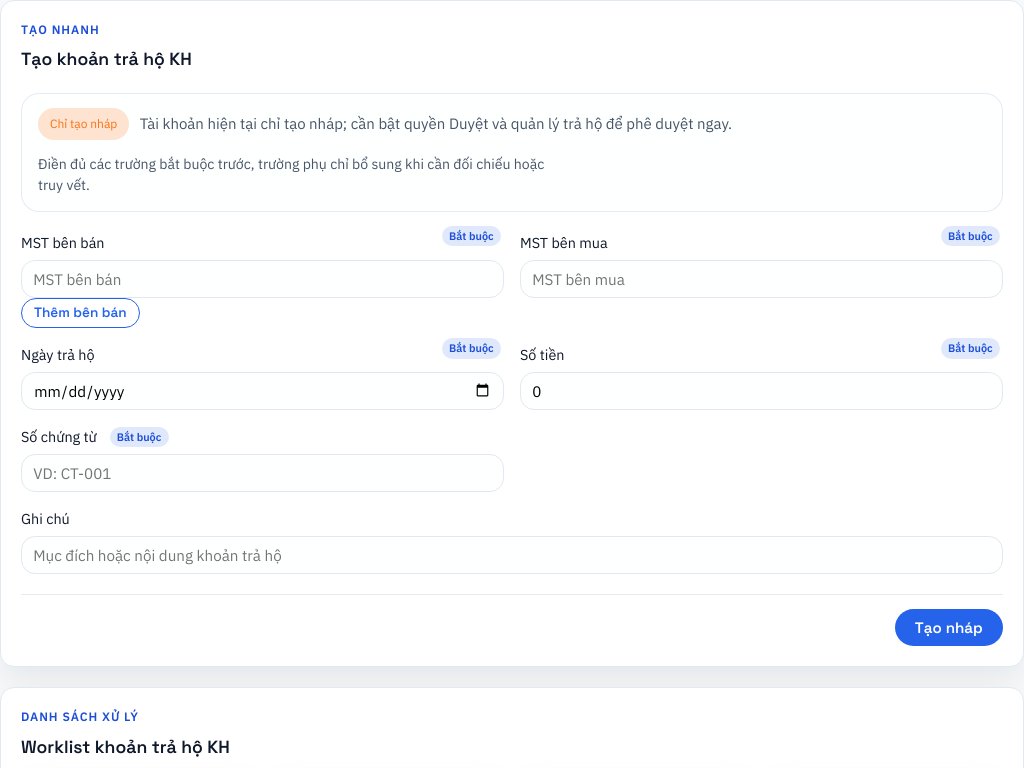
Test: ManualAdvancesSection › allows quick-adding a seller from the manual advances form
The width and height of the screenshot is (1024, 768).
Click the button "Thêm bên bán" at [80, 313], box [21, 298, 140, 328]
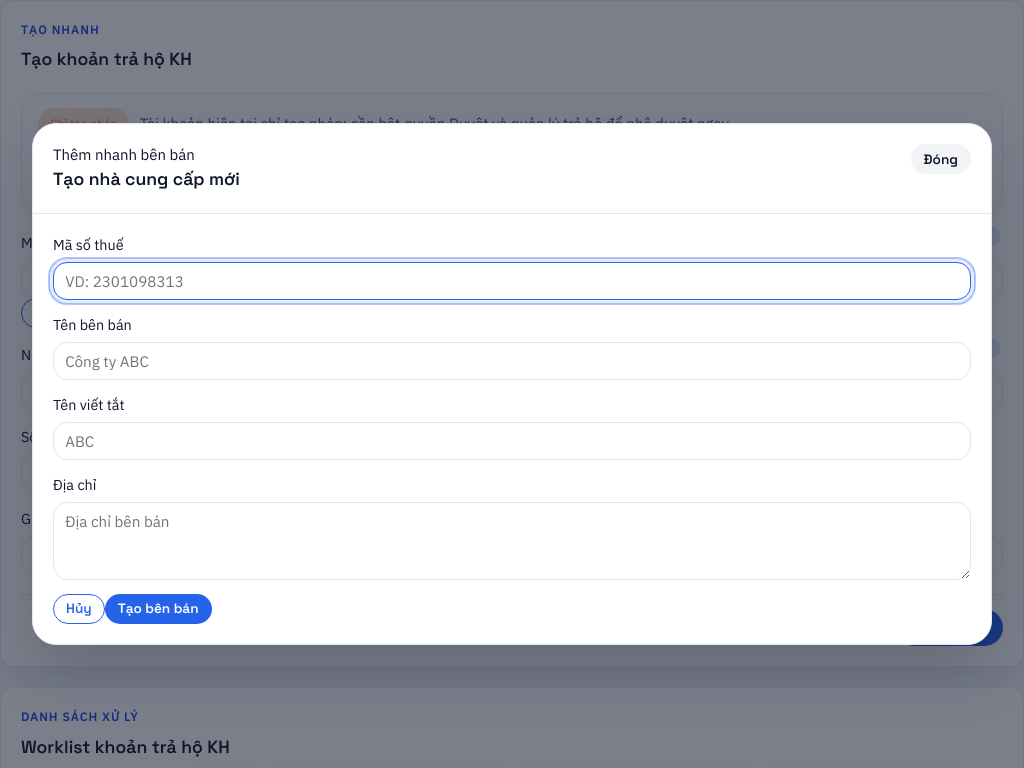
Type "0312345678" into the field labelled "Mã số thuế" at [512, 281], box [53, 262, 971, 300]
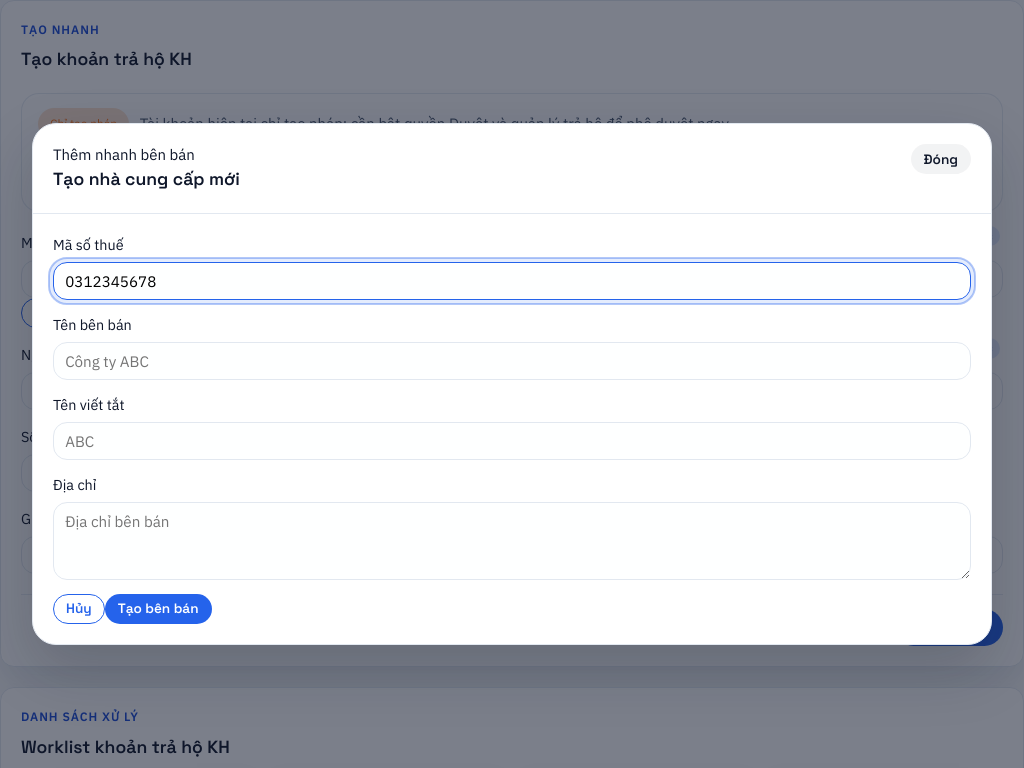
Type "Nhà cung cấp mới" into the field labelled "Tên bên bán" at [512, 361], box [53, 342, 971, 380]
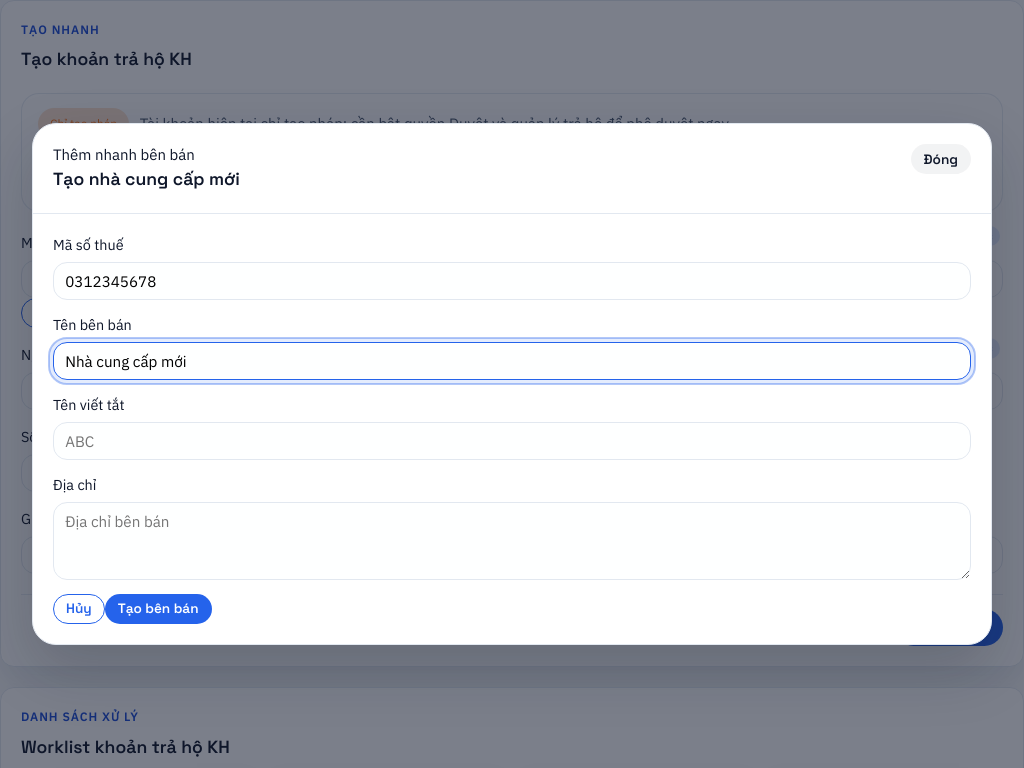
Type "NCC" into the field labelled "Tên viết tắt" at [512, 441], box [53, 422, 971, 460]
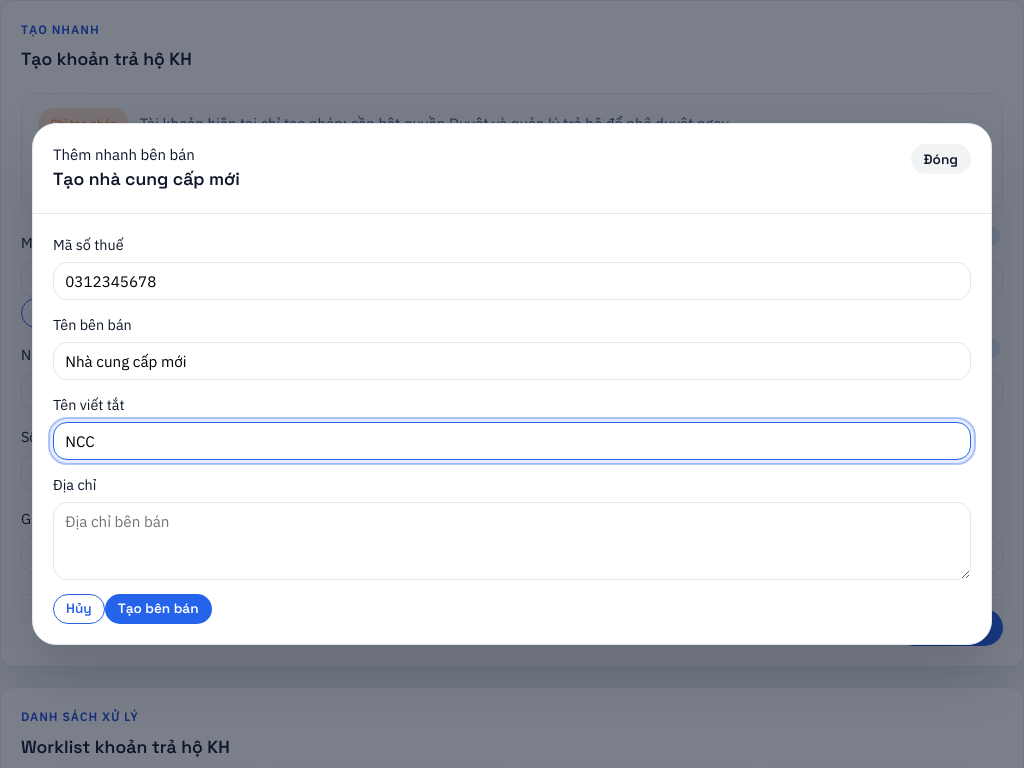
Click the button "Tạo bên bán" at [158, 609], box [105, 594, 212, 624]
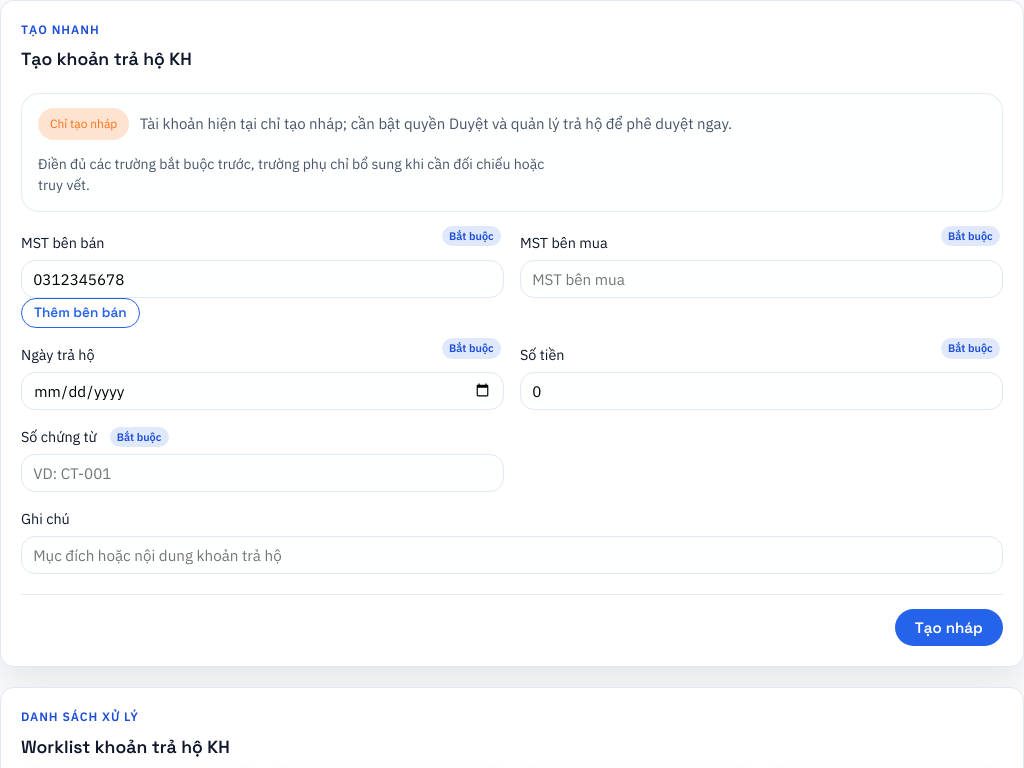
Now the field with placeholder "MST bên bán" holds "0312345678", box [21, 260, 504, 298]
